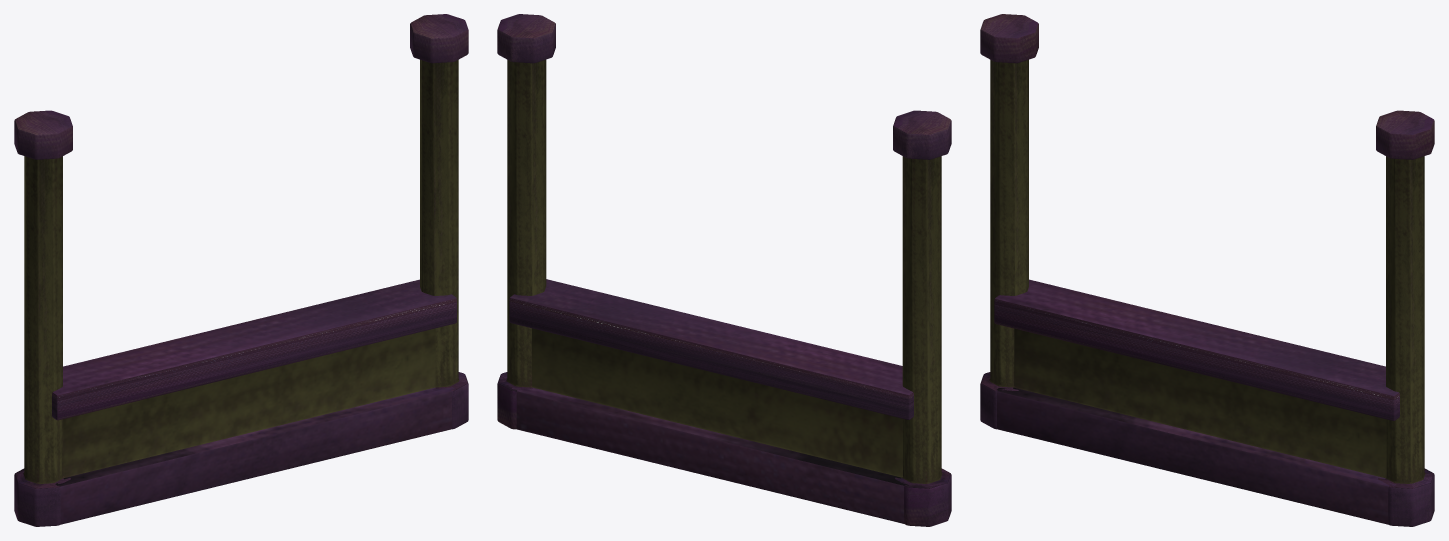
File: MANOR_WALL_3_1_002.obj
3 views of the same model, side by side, from view 1: azimuth 30°, elevation 25°; view 2: azimuth 150°, elevation 25°; view 3: azimuth 330°, elevation 25° (orthographic).
Visible parts, largest first — view 1: MANOR_WALL_3_1_002; view 2: MANOR_WALL_3_1_002; view 3: MANOR_WALL_3_1_002.
Part boxes in pixels (box(x1,y1,x2,y2)): MANOR_WALL_3_1_002: box(14, 14, 468, 526); MANOR_WALL_3_1_002: box(497, 14, 951, 526); MANOR_WALL_3_1_002: box(980, 14, 1434, 526).
Size of the model in its own units: 3.57 by 3 by 0.4135.
